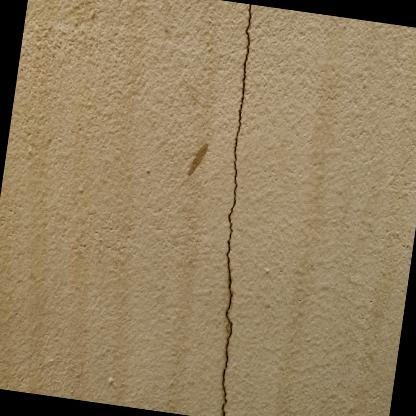crack: (220, 4, 252, 416)
